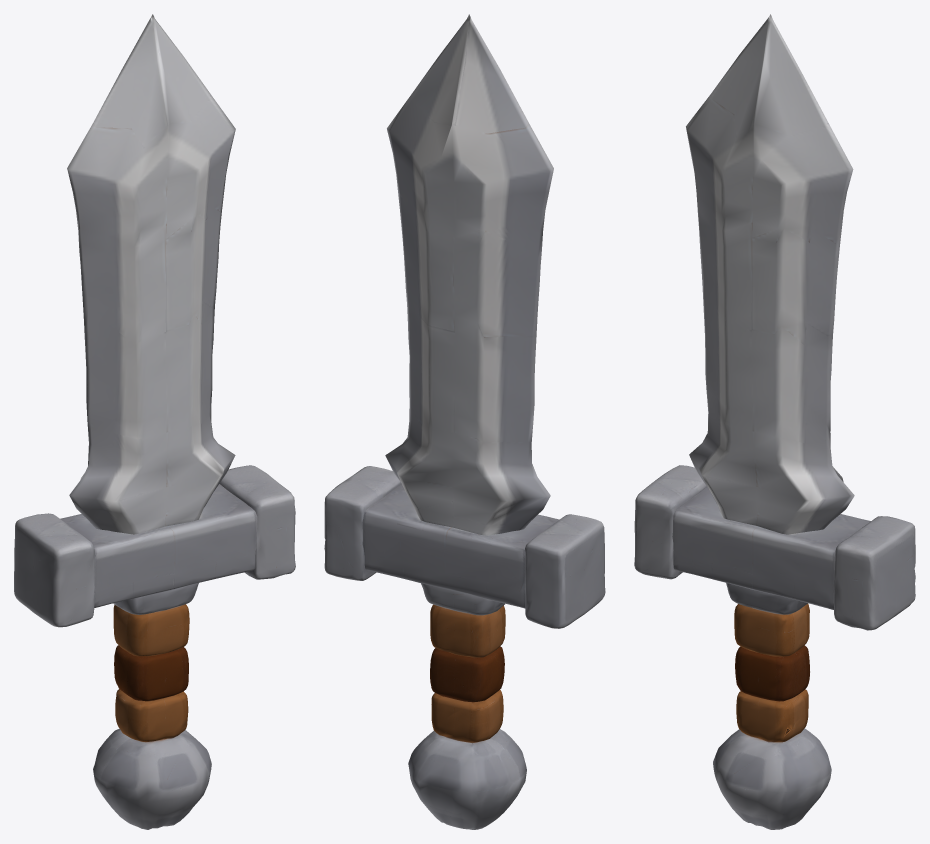
Rendered from 03_新手铁剑.fbx.
3 renders of one model, left to right at view 1: azimuth 30°, elevation 25°; view 2: azimuth 150°, elevation 25°; view 3: azimuth 330°, elevation 25°, orthographic.
Parts seen in each view (by area): view 1: Mesh_0; view 2: Mesh_0; view 3: Mesh_0.
Boxes of the visible parts, bbox=[...] form: Mesh_0: bbox=[14, 14, 295, 829]; Mesh_0: bbox=[324, 14, 605, 829]; Mesh_0: bbox=[634, 14, 915, 829].
Bounding box in the file's own units: 63.23 × 200 × 25.22.
Materials: 1 (1 with a texture image).
